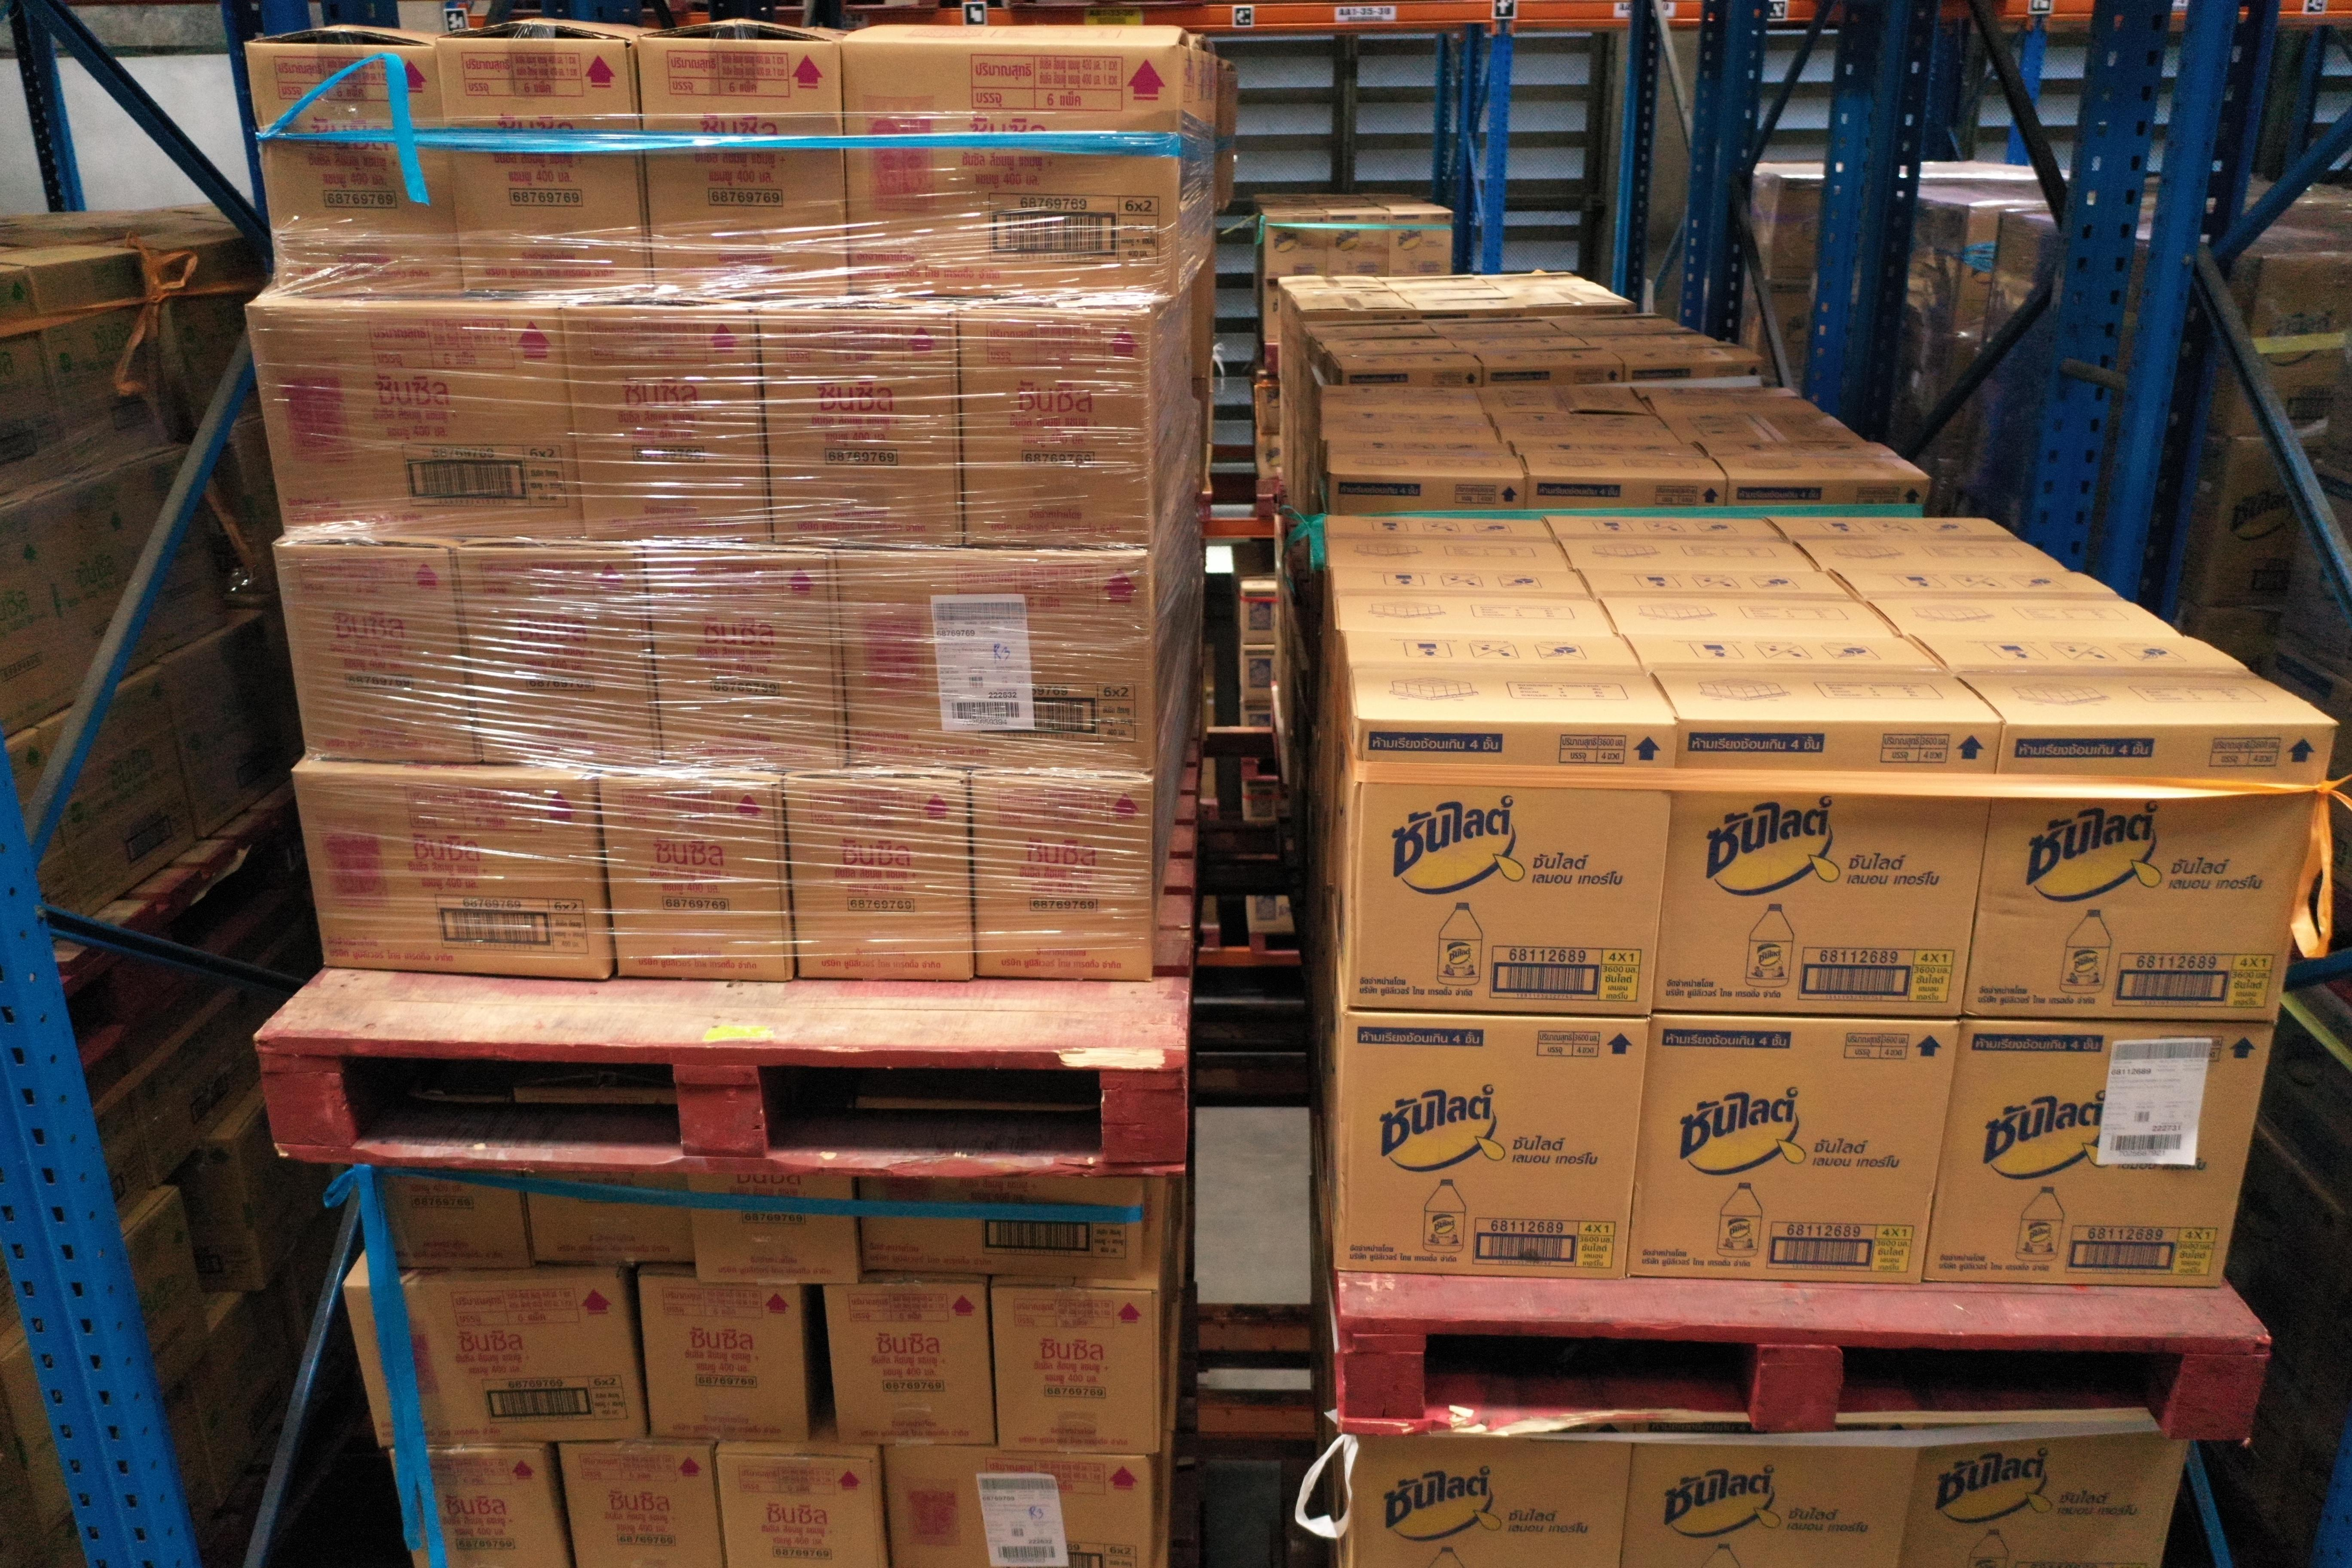-: (1967, 723, 2336, 1024), (1652, 717, 2004, 1024), (1351, 716, 1676, 1018), (1925, 1017, 2277, 1290), (1627, 1015, 1962, 1288), (838, 45, 1178, 304), (1337, 1011, 1648, 1283), (245, 303, 584, 548), (831, 548, 1153, 775), (292, 770, 611, 980), (637, 38, 854, 304), (245, 38, 465, 299), (439, 40, 656, 299), (346, 1279, 644, 1449), (562, 308, 770, 546), (756, 310, 961, 549), (453, 541, 663, 770), (955, 308, 1153, 549), (642, 548, 845, 773), (273, 541, 478, 763), (1624, 1431, 1923, 1568), (597, 775, 791, 983), (1900, 1430, 2189, 1568), (782, 780, 973, 982), (969, 775, 1157, 980), (1349, 1433, 1633, 1568), (885, 1451, 1153, 1566), (857, 1176, 1141, 1281), (637, 1276, 807, 1449), (992, 1283, 1160, 1458), (826, 1281, 997, 1451), (392, 1449, 572, 1568), (709, 1451, 884, 1568), (562, 1444, 726, 1568), (686, 1178, 859, 1288), (366, 1167, 534, 1270), (527, 1174, 695, 1263)
